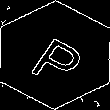P_NE: (22, 24, 88, 86)
